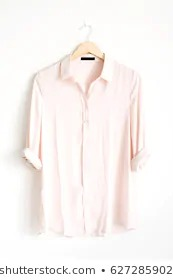S_blouse: (22, 46, 153, 239)
